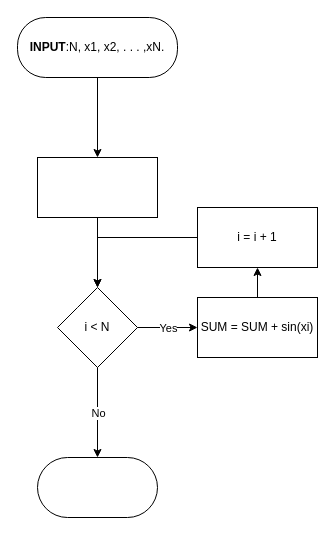
The diagram is 335 pixels wide and 535 high, and some of its shapes have lost their labels. The shapes that lost their labels are listed below. From the top down, each one's centre as x and y in pixels, then its label:
(x=97, y=187): Set SUM = 0 Set i = 1
(x=97, y=487): OUTPUT : Sum
